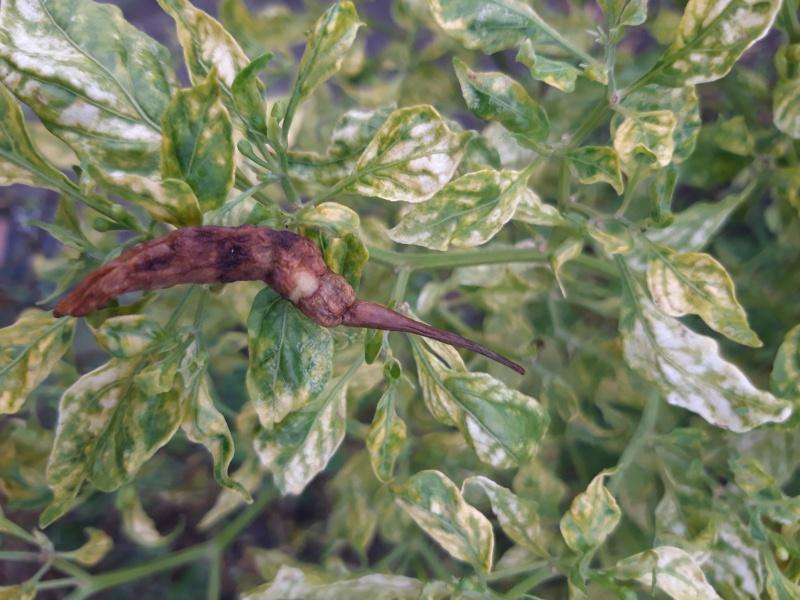antraknosa: (53, 220, 330, 326)
